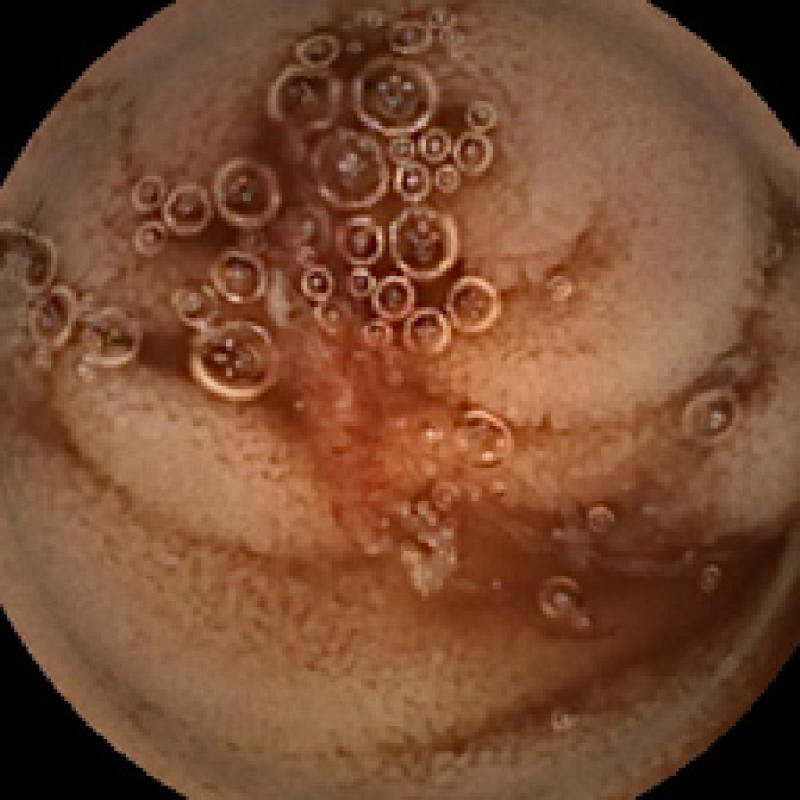bleeding: (264, 57, 493, 347)
